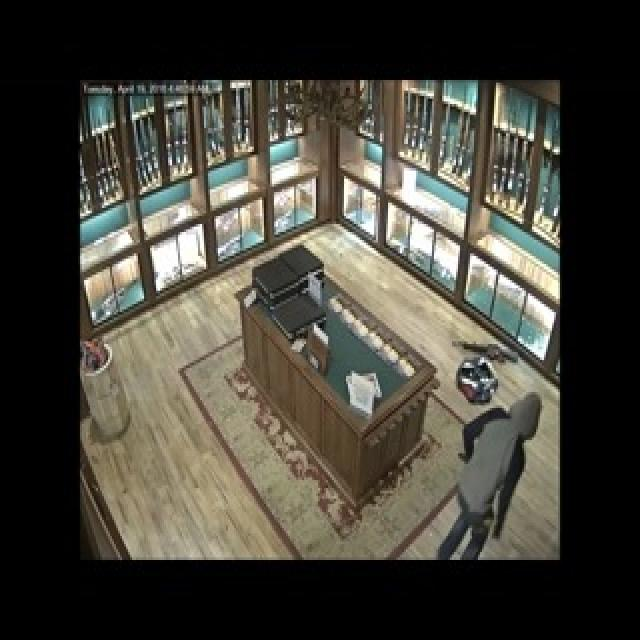thief: (455, 386, 541, 554)
